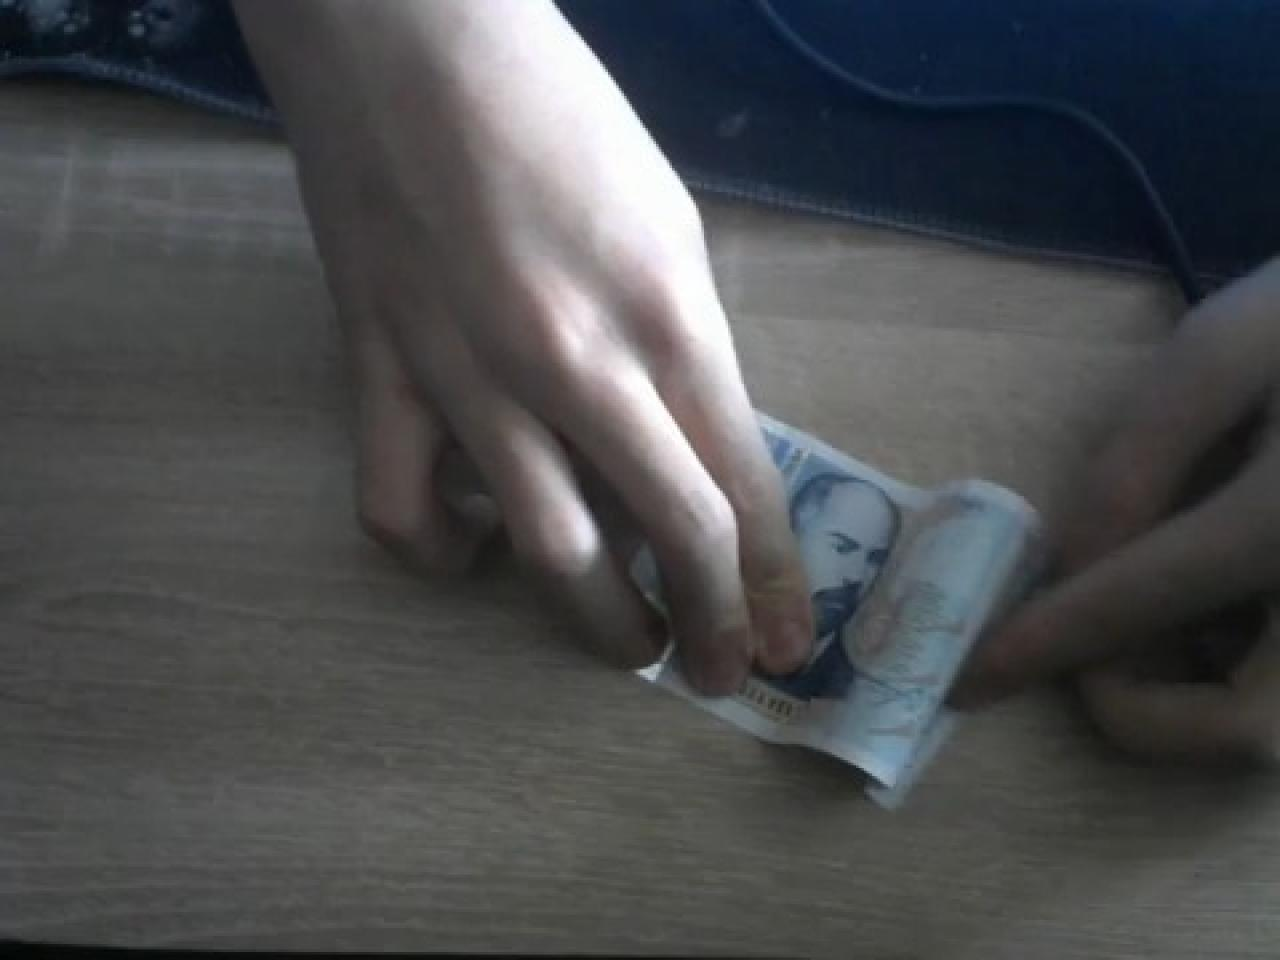20leva: (643, 424, 1045, 814)
